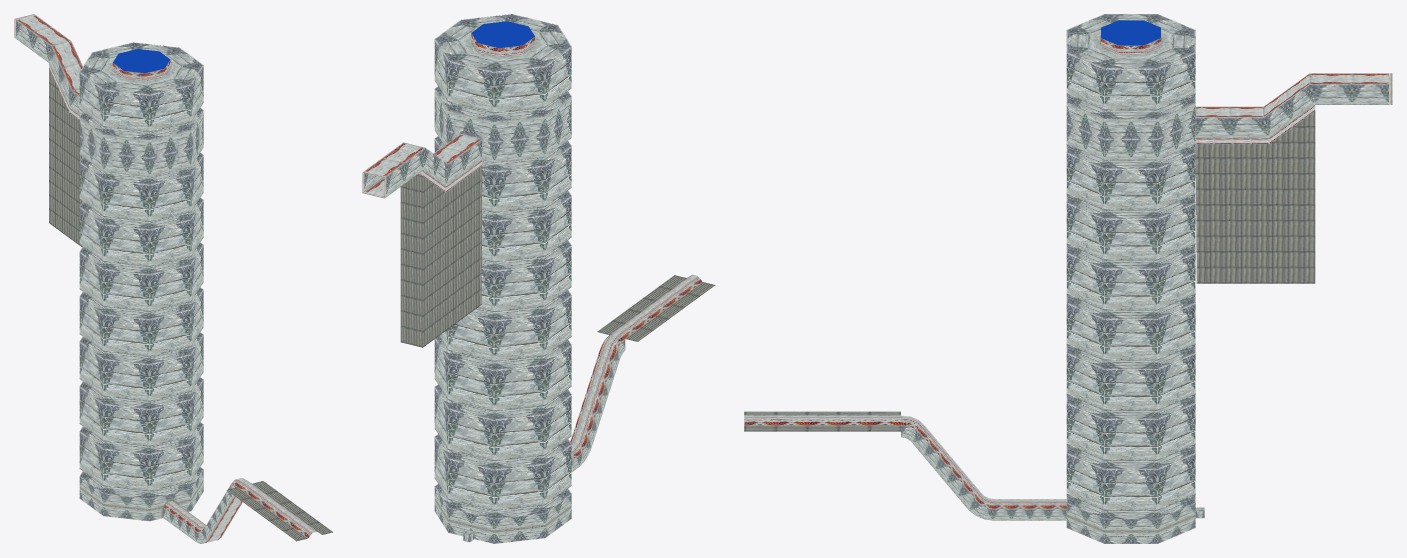
The model's file is Chunk8.obj.
3 renders of one model, left to right at view 1: azimuth 30°, elevation 25°; view 2: azimuth 150°, elevation 25°; view 3: azimuth 270°, elevation 25°, orthographic. The views are drawn at different scales.
Size of the model in its own units: 700 by 2901 by 3520.
Materials: 10 (10 with a texture image).
